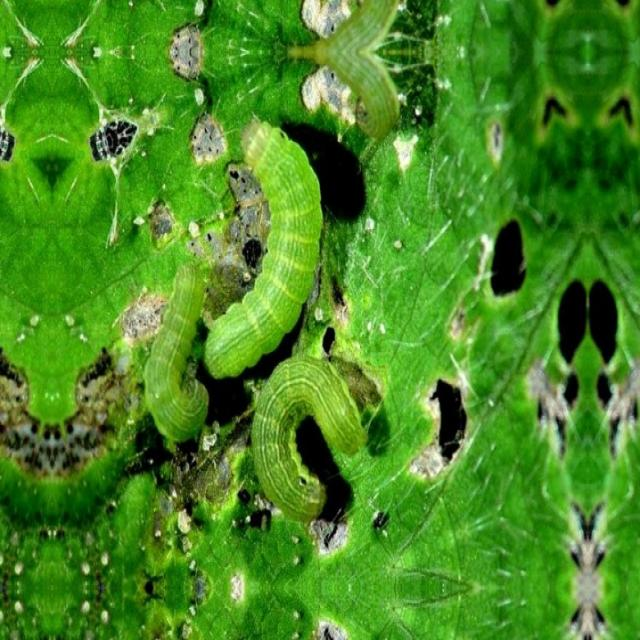Armyworm: (214, 73, 326, 376), (253, 359, 369, 516), (147, 249, 219, 445)
Armyworm_damage: (540, 250, 601, 369), (417, 366, 475, 479), (483, 206, 535, 325), (581, 273, 640, 367)
